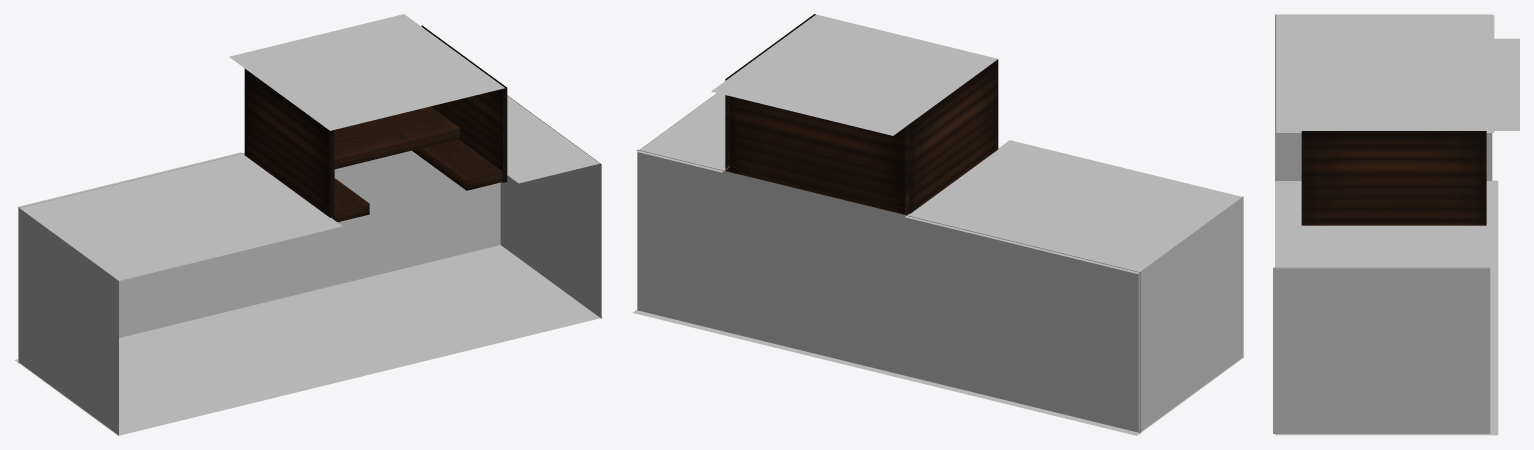
Rendered from New_CarriageShell_Caboose.fbx.
3 views of the same model, side by side, from view 1: azimuth 30°, elevation 25°; view 2: azimuth 150°, elevation 25°; view 3: azimuth 270°, elevation 25° (orthographic). The views are drawn at different scales.
Parts seen in each view (by area): view 1: Ground_Floorboards4, Backwall_NoWindow7, Sidewall8, Carriage4_room2, Sidewall9, top_floor6, CeilingPiece_Modular114, top_floor5, CeilingPiece_Modular119, CeilingPiece_Modular120, CeilingPiece_Modular129, CeilingPiece_Modular117 (+17 smaller); view 2: Backwall_NoWindow7, Carriage4_room2, Sidewall8, CeilingPiece_Modular114, CeilingPiece_Modular119, CeilingPiece_Modular129, CeilingPiece_Modular113, CeilingPiece_Modular125, CeilingPiece_Modular127, CeilingPiece_Modular117, CeilingPiece_Modular121, CeilingPiece_Modular123 (+13 smaller); view 3: Sidewall9, Carriage4_room2, Ground_Floorboards4, CeilingPiece_Modular101, CeilingPiece_Modular102, CeilingPiece_Modular123, CeilingPiece_Modular103, CeilingPiece_Modular122, CeilingPiece_Modular124, CeilingPiece_Modular126, CeilingPiece_Modular128, CeilingPiece_Modular130 (+14 smaller).
Part boxes in pixels (left/top/right/bottom): Ground_Floorboards4: left=15, top=245, right=603, bottom=435; Backwall_NoWindow7: left=18, top=150, right=500, bottom=363; Sidewall8: left=18, top=207, right=118, bottom=435; Carriage4_room2: left=244, top=25, right=507, bottom=219; Sidewall9: left=500, top=95, right=601, bottom=318; top_floor6: left=334, top=106, right=459, bottom=169; CeilingPiece_Modular114: left=215, top=152, right=342, bottom=232; top_floor5: left=412, top=139, right=502, bottom=190; CeilingPiece_Modular119: left=105, top=180, right=227, bottom=259; CeilingPiece_Modular120: left=61, top=191, right=183, bottom=270; CeilingPiece_Modular129: left=361, top=19, right=483, bottom=98; CeilingPiece_Modular117: left=149, top=169, right=271, bottom=248; Backwall_NoWindow7: left=637, top=149, right=1140, bottom=433; Carriage4_room2: left=725, top=14, right=998, bottom=215; Sidewall8: left=1138, top=196, right=1243, bottom=433; CeilingPiece_Modular114: left=905, top=140, right=1037, bottom=223; CeilingPiece_Modular119: left=1024, top=169, right=1151, bottom=251; CeilingPiece_Modular129: left=734, top=20, right=861, bottom=102; CeilingPiece_Modular113: left=933, top=147, right=1060, bottom=229; CeilingPiece_Modular125: left=825, top=42, right=952, bottom=124; CeilingPiece_Modular127: left=779, top=31, right=906, bottom=113; CeilingPiece_Modular117: left=978, top=158, right=1105, bottom=240; CeilingPiece_Modular121: left=1092, top=186, right=1219, bottom=268; CeilingPiece_Modular123: left=870, top=53, right=997, bottom=135; Sidewall9: left=1273, top=267, right=1490, bottom=433; Carriage4_room2: left=1301, top=131, right=1485, bottom=225; Ground_Floorboards4: left=1275, top=180, right=1498, bottom=435; CeilingPiece_Modular101: left=1276, top=256, right=1494, bottom=268; CeilingPiece_Modular102: left=1276, top=233, right=1494, bottom=245; CeilingPiece_Modular123: left=1301, top=38, right=1519, bottom=50; CeilingPiece_Modular103: left=1276, top=245, right=1494, bottom=256; CeilingPiece_Modular122: left=1276, top=15, right=1494, bottom=26; CeilingPiece_Modular124: left=1301, top=50, right=1519, bottom=61; CeilingPiece_Modular126: left=1301, top=73, right=1519, bottom=84; CeilingPiece_Modular128: left=1301, top=96, right=1519, bottom=107; CeilingPiece_Modular130: left=1301, top=119, right=1519, bottom=130.
Size of the model in its own units: 110 by 52.47 by 45.03.
